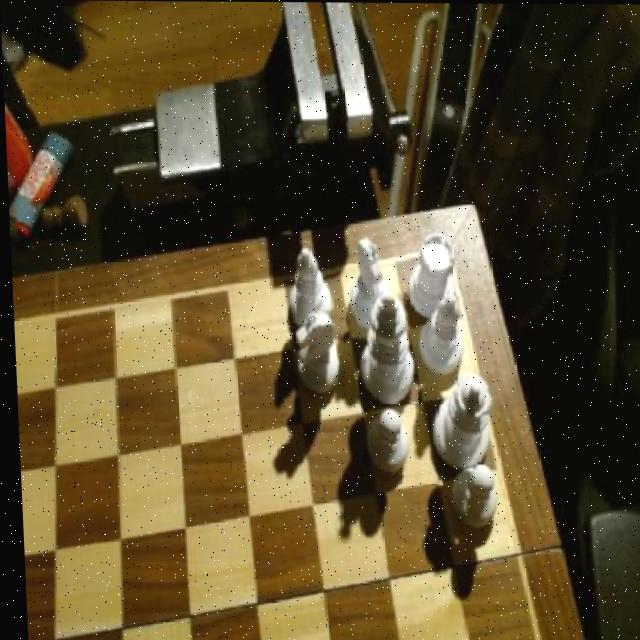black-rook: (415, 298, 467, 377), (287, 246, 336, 325)
white-king: (345, 237, 392, 332), (293, 311, 343, 393)
white-knight: (353, 293, 413, 406), (447, 463, 498, 530), (363, 407, 407, 474)
white-queen: (405, 230, 459, 323)
